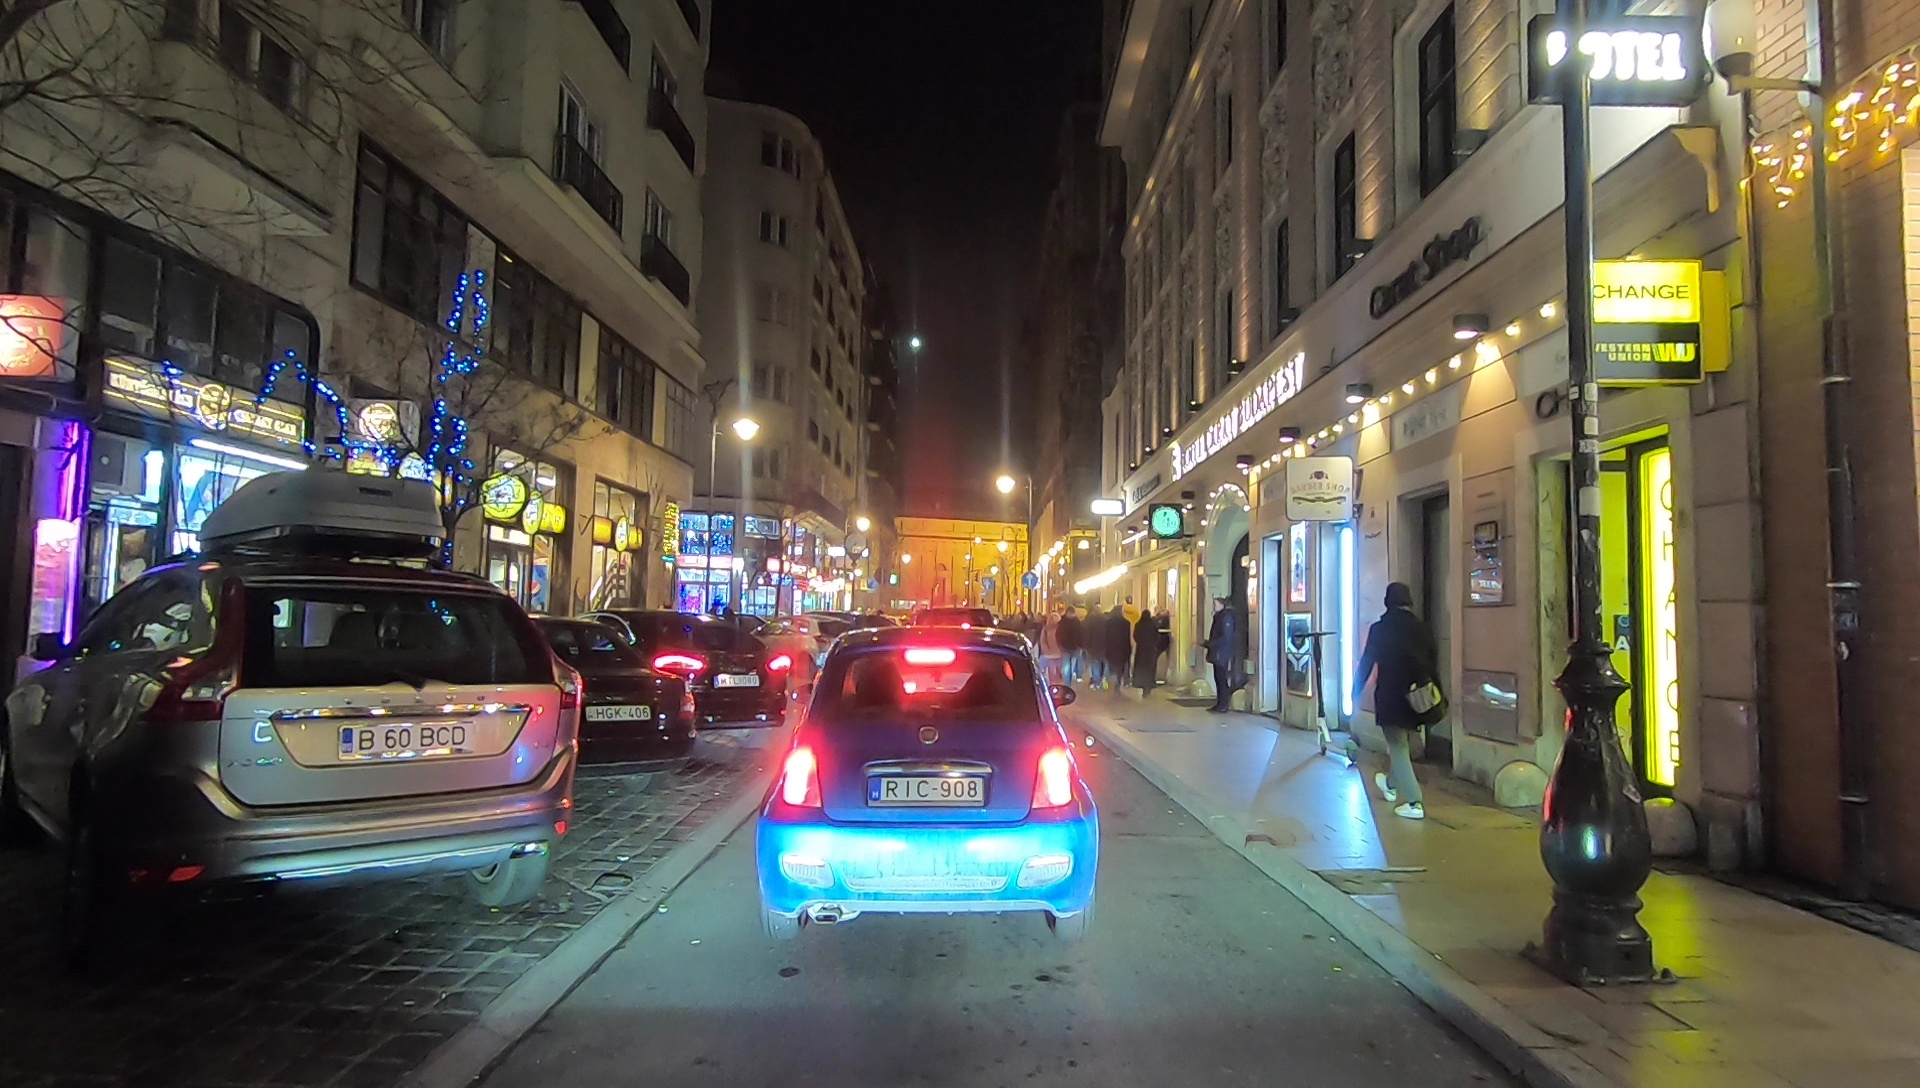person: (1357, 584, 1444, 823), (1203, 601, 1236, 711), (1133, 612, 1163, 701), (1106, 605, 1130, 700), (1058, 606, 1085, 685), (1084, 604, 1109, 686), (1043, 612, 1062, 675)
